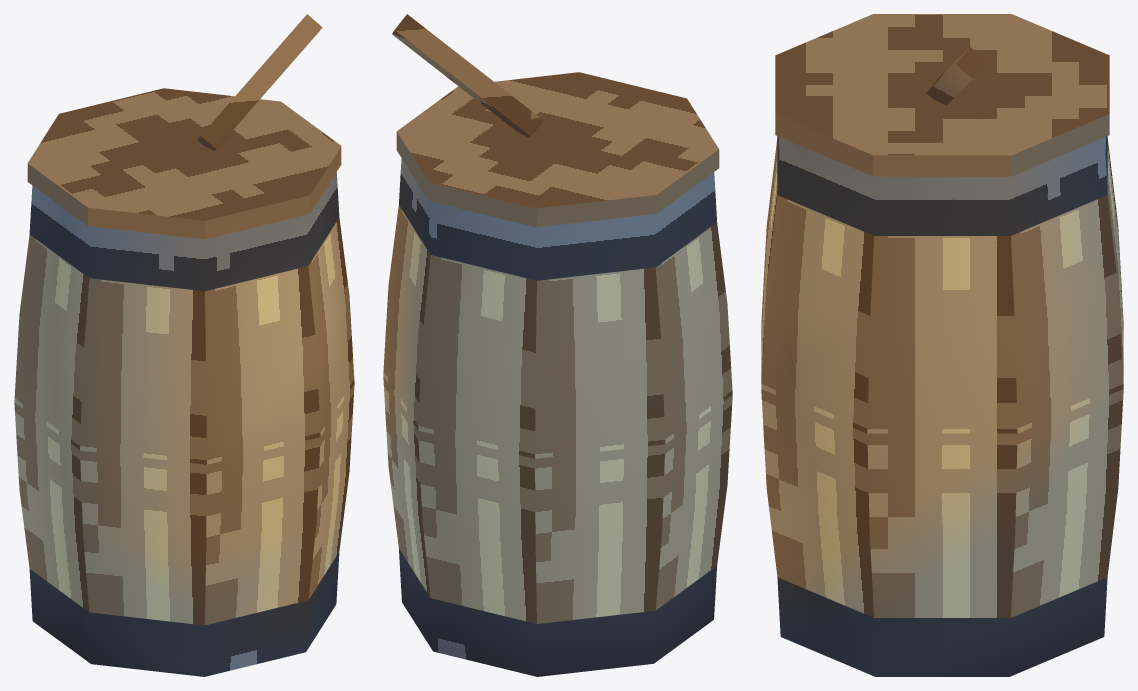
Rendered from wprop.barrel__water.glb.
3 views of the same model, side by side, from view 1: azimuth 30°, elevation 25°; view 2: azimuth 150°, elevation 25°; view 3: azimuth 270°, elevation 25° (orthographic). The views are drawn at different scales.
Visible parts, largest first — view 1: kit_barrel, kit_lid, kit_dipper; view 2: kit_barrel, kit_lid, kit_dipper; view 3: kit_barrel, kit_lid, kit_dipper.
Boxes of the visible parts, x1,y1,x2,y2 form: kit_barrel: (14, 172, 354, 676); kit_lid: (27, 88, 341, 239); kit_dipper: (197, 14, 322, 150); kit_barrel: (383, 158, 732, 676); kit_lid: (396, 72, 719, 227); kit_dipper: (392, 14, 542, 137); kit_barrel: (761, 136, 1123, 676); kit_lid: (775, 14, 1109, 176); kit_dipper: (926, 47, 987, 105).
Bounding box in the file's own units: 0.6457 × 1.2 × 0.6208.
3 materials, 3 textured.
